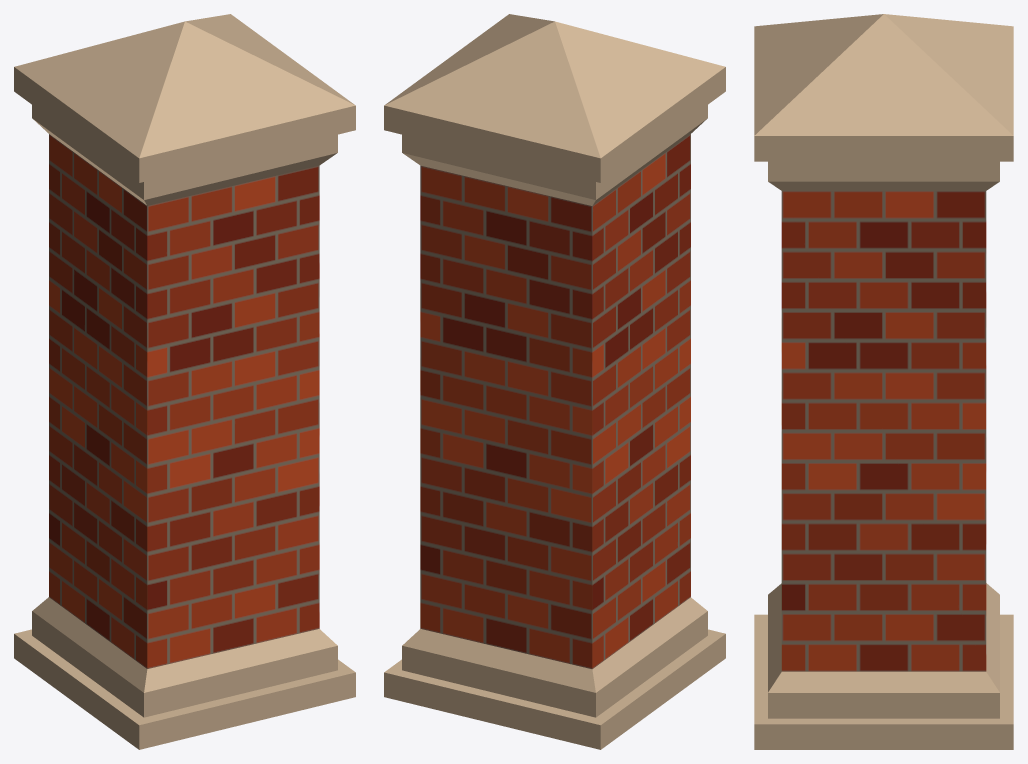
Rendered from f249af38-dfb6-4bd2-b119-9a2497175d71.glb.
3 views of the same model, side by side, from view 1: azimuth 30°, elevation 25°; view 2: azimuth 150°, elevation 25°; view 3: azimuth 270°, elevation 25° (orthographic). The views are drawn at different scales.
Visible parts, largest first — view 1: FenceCorner; view 2: FenceCorner; view 3: FenceCorner.
Part boxes in pixels (left/top/right/bottom): FenceCorner: left=14, top=14, right=355, bottom=749; FenceCorner: left=384, top=14, right=725, bottom=749; FenceCorner: left=754, top=14, right=1013, bottom=749.
Size of what is drawn, in the model's own units: 0.6707 by 1.94 by 0.6707.
Materials: 1 (1 with a texture image).
